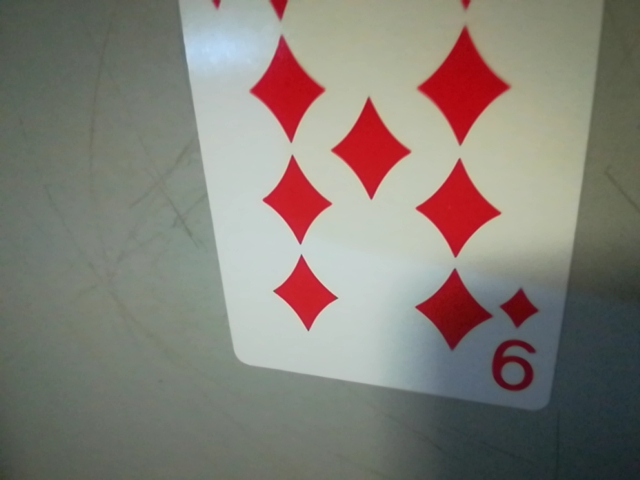fk 9: (481, 278, 557, 403)
